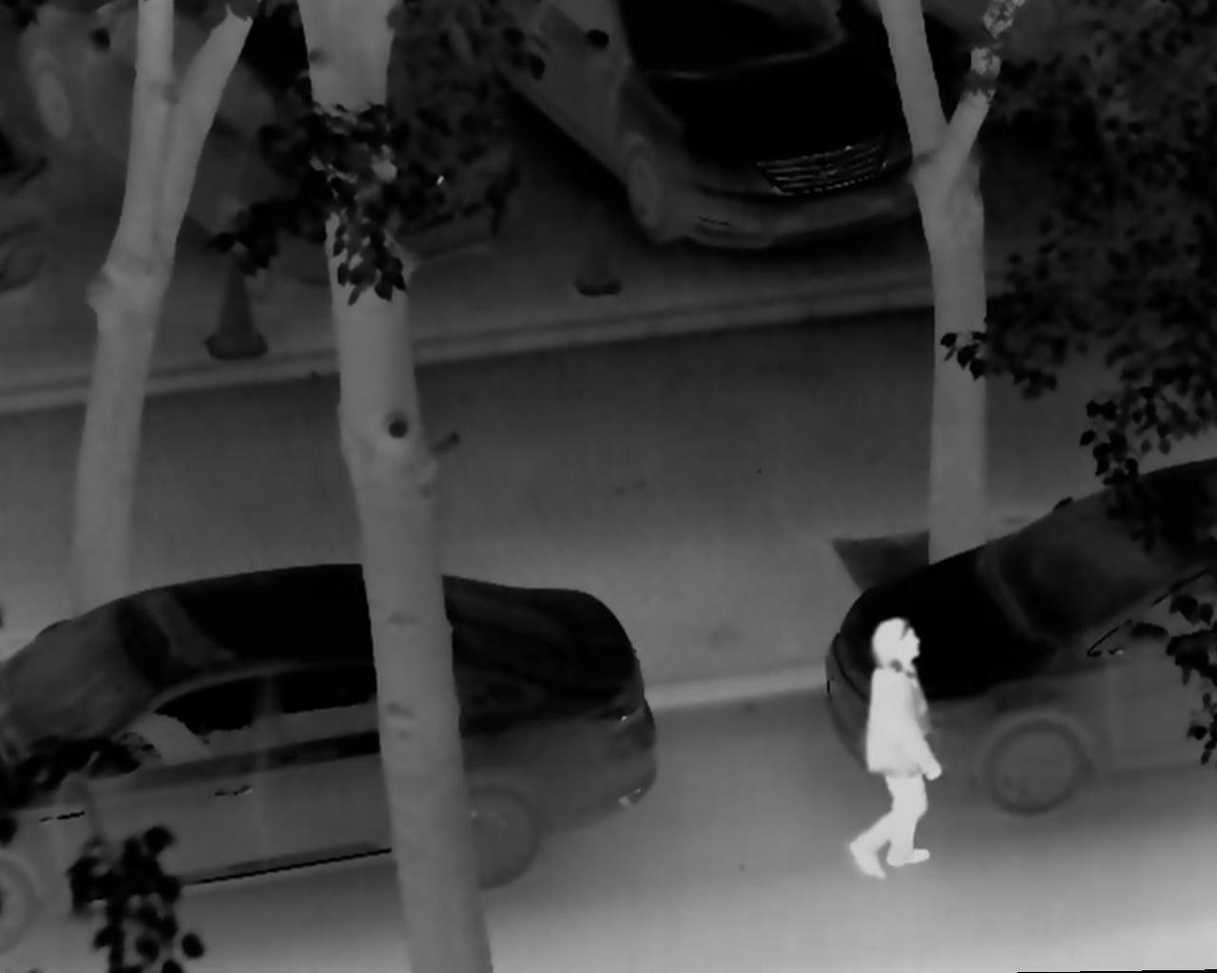person: (846, 616, 936, 879)
